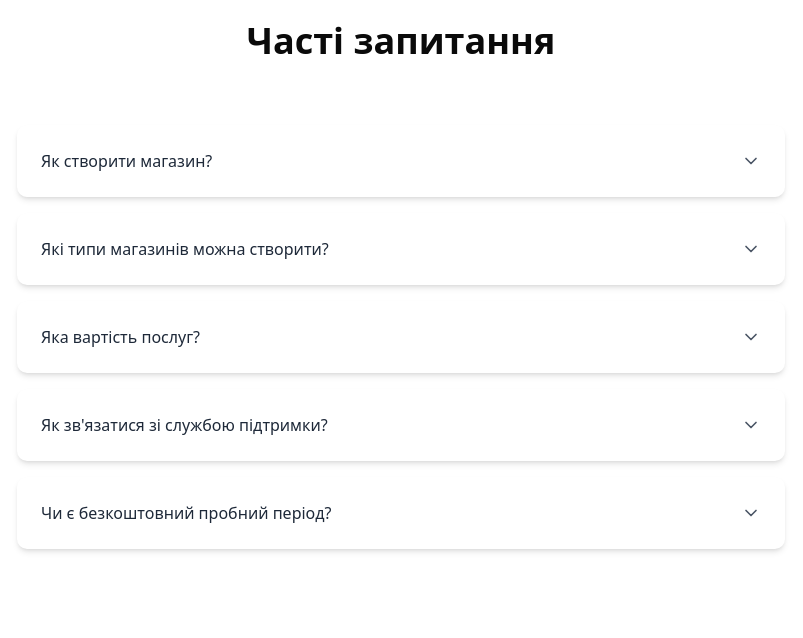
Test: FAQSection › toggles answers
The width and height of the screenshot is (803, 638).
Expected: the heading "Часті запитання" is shown, [247,16,555,65]
Click the button "Як створити магазин?".
click(127, 161)  # box [17,125,785,197]
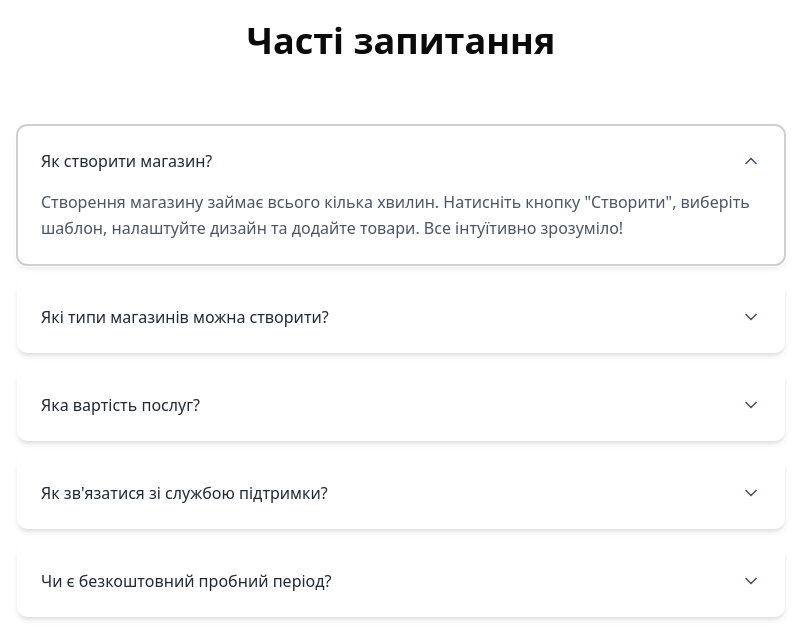
Result: the text "Створення магазину займає всього кілька хвилин" is shown at [41,191,750,239]
